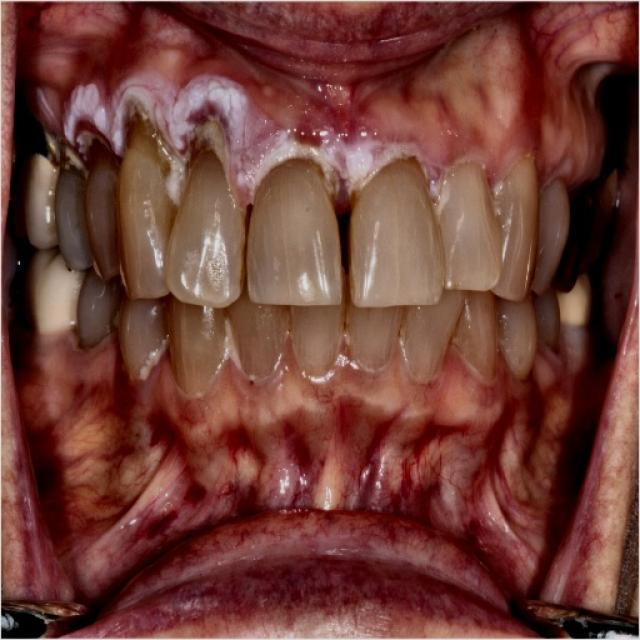leukoplakia-detection: (48, 70, 529, 209)
processing_area: (21, 321, 582, 615), (20, 2, 638, 206)
